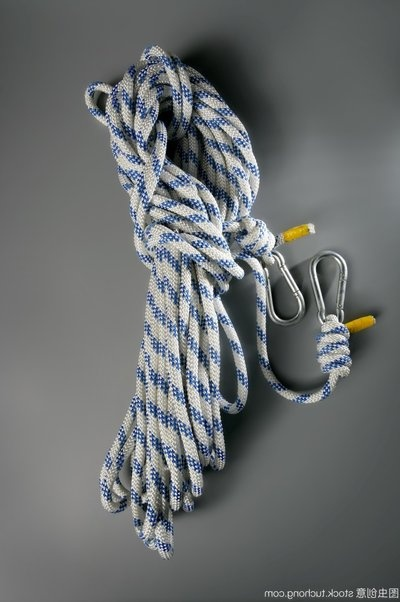9/可回收垃圾/绳子: (82, 43, 378, 560)
